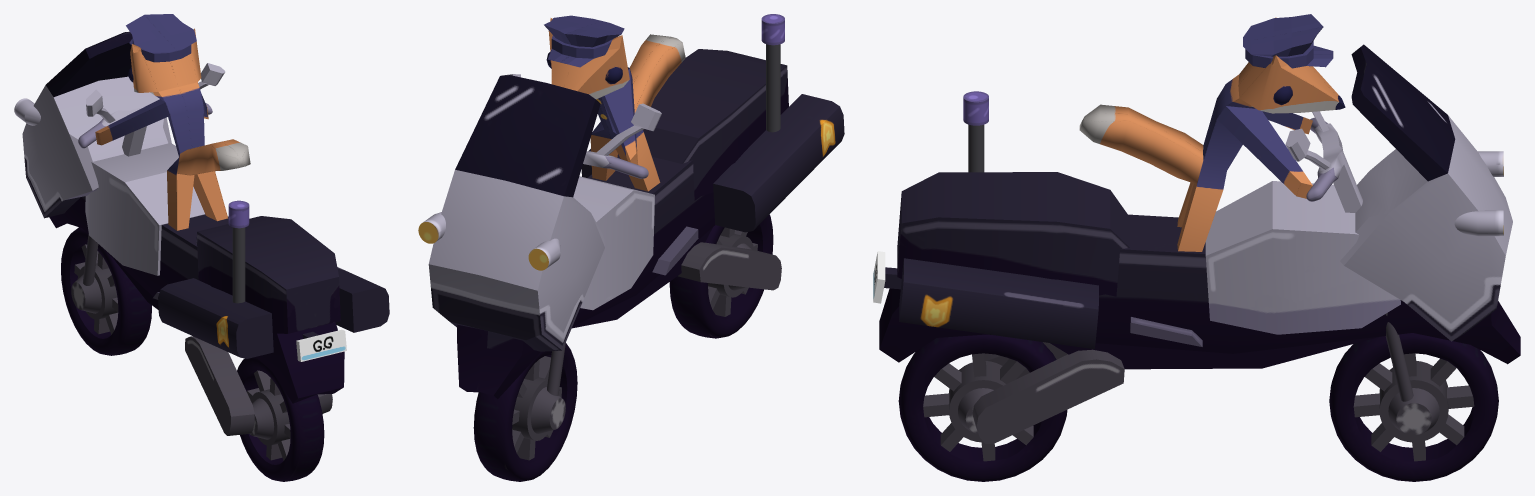
Rendered from foxBike (1).fbx.
3 renders of one model, left to right at view 1: azimuth 30°, elevation 25°; view 2: azimuth 150°, elevation 25°; view 3: azimuth 270°, elevation 25°, orthographic. The views are drawn at different scales.
Parts seen in each view (by area): view 1: REAL Motorcycle, Cube; view 2: REAL Motorcycle, Cube; view 3: REAL Motorcycle, Cube.
Boxes of the visible parts, x1,y1,x2,y2 form: REAL Motorcycle: (14,31,389,481); Cube: (95,14,250,230); REAL Motorcycle: (418,14,844,481); Cube: (544,15,685,191); REAL Motorcycle: (873,44,1520,481); Cube: (1079,14,1345,251).
Bounding box in the file's own units: 41.02 × 92.8 × 121.
